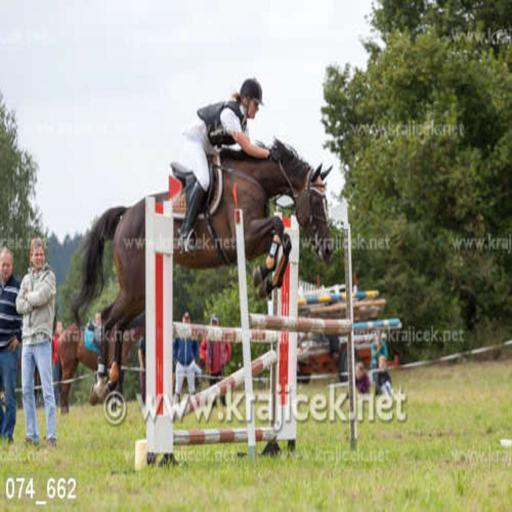horse: (68, 130, 336, 408)
